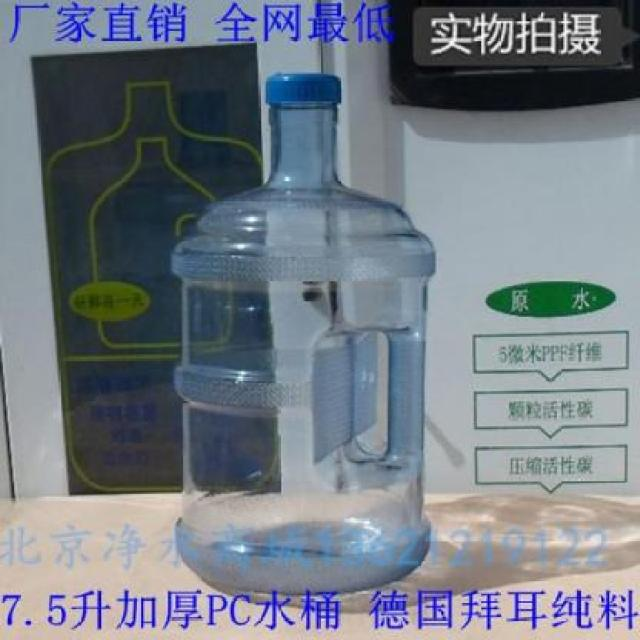coolerbottle: (165, 68, 442, 600)
